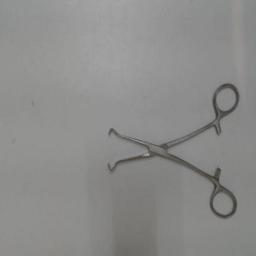Babcock Tissue Forceps: (104, 76, 242, 222)
